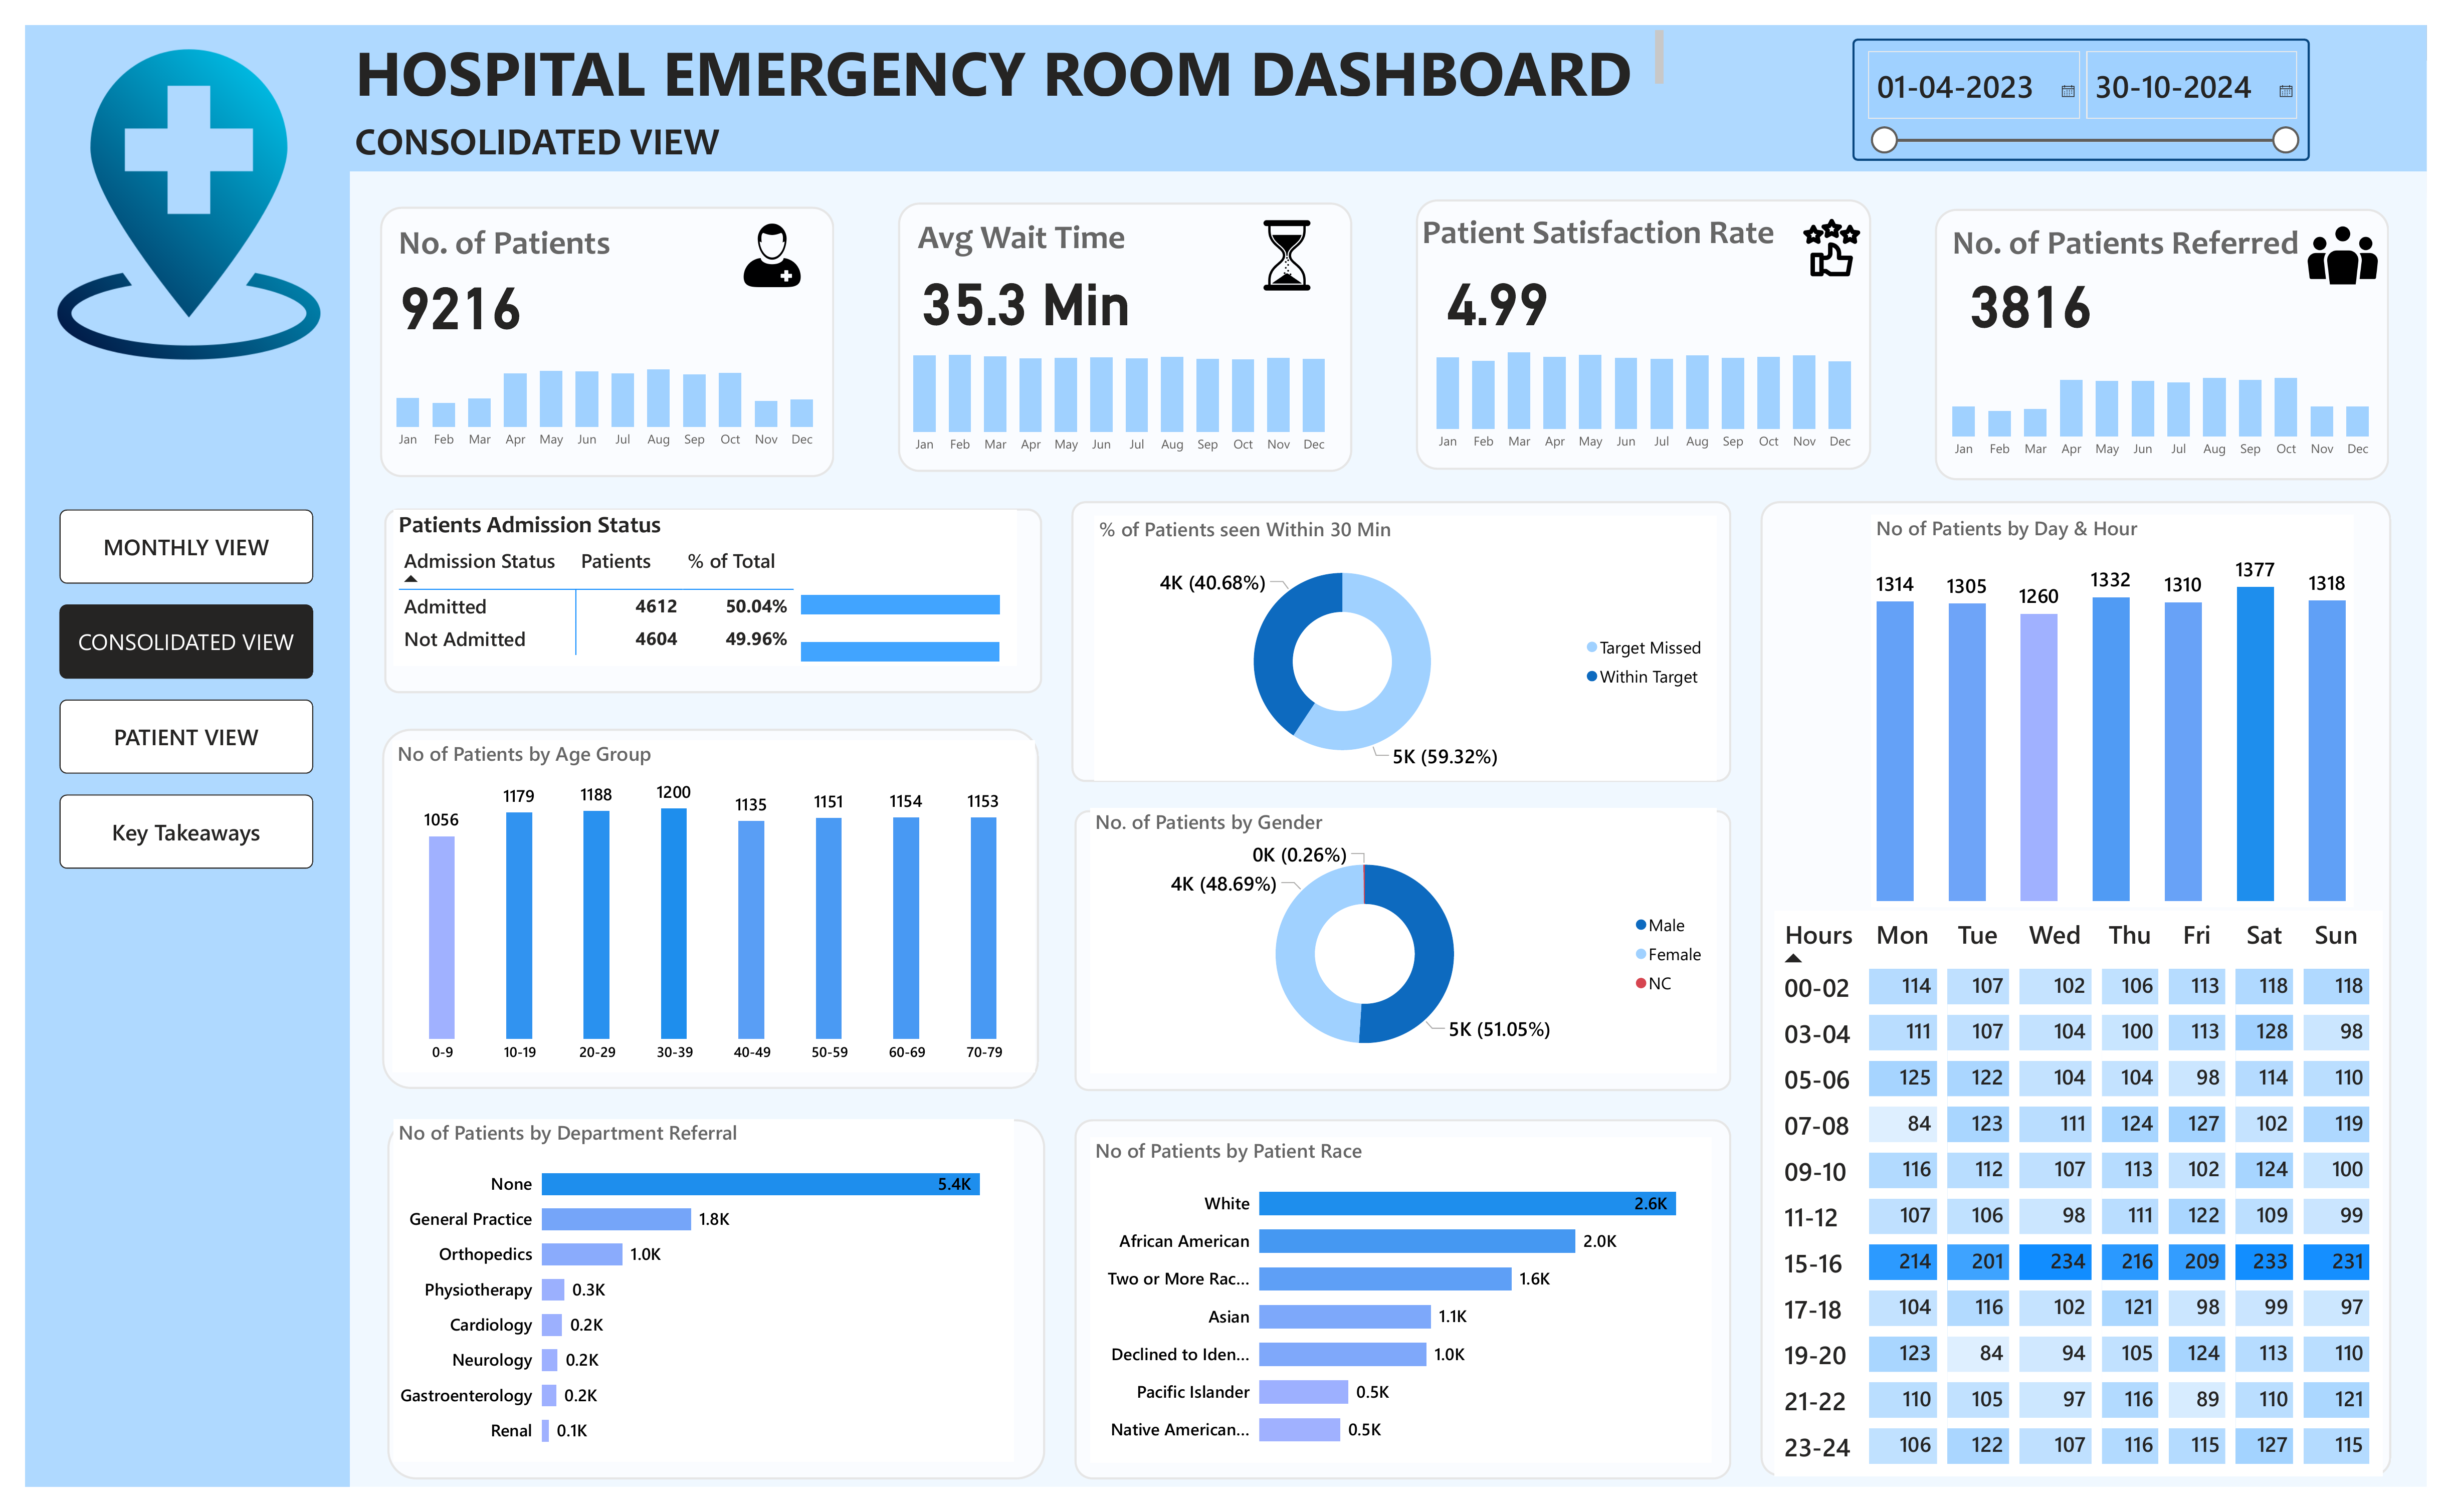

What the dashboard file says about the page in this screenshot:
{"tool":"powerbi","page":{"name":"CONSOLIDATED VIEW","canvas":[2300,1400],"ordinal":1},"visuals":[{"type":"shape","box":[339.6,173.7,435.5,259.2],"z":0},{"type":"shape","box":[311.1,0,1988.4,140],"z":1000},{"type":"textbox","box":[311.1,0,1262.5,72.6],"z":2000},{"type":"shape","box":[0,0,311.1,1399.9],"z":3000},{"type":"textbox","box":[352.6,184.1,290.4,67.4],"z":4000},{"type":"card","fields":{"Values":["Hospital ER_Data.No of Patients"]},"box":[337,230.7,160.7,67.4],"z":5000},{"type":"slicer","fields":{"Values":["Date.Date"]},"box":[1749.9,13,438.1,116.7],"z":6000},{"type":"textbox","box":[311.5,83.2,404.2,66.6],"z":7000},{"type":"clusteredColumnChart","fields":{"Category":["Date.Month"],"Y":["All Measures.No of Patients"]},"box":[336.6,290.5,437.1,125],"z":8000},{"type":"shape","box":[836.4,170,434.4,257.9],"z":9000},{"type":"textbox","box":[850.3,178.9,290.4,67.4],"z":10000},{"type":"card","fields":{"Values":["All Measures.Avg_Wait_time"]},"box":[850.3,225.5,217.8,70],"z":11000},{"type":"columnChart","fields":{"Category":["Date.Month"],"Y":["Avg(Hospital ER_Data.Patient Waittime)"]},"box":[832.4,294.8,431.7,125],"z":12000},{"type":"shape","box":[1332,166.8,435.5,259.2],"z":13000},{"type":"textbox","box":[1332.5,173.7,360.4,51.8],"z":14000},{"type":"card","fields":{"Values":["All Measures.Satisfaction rate"]},"box":[1350.7,225.5,119.3,70],"z":15000},{"type":"columnChart","fields":{"Category":["Date.Month"],"Y":["All Measures.Satisfaction rate"]},"box":[1332.5,290.4,435.5,127],"z":16000},{"type":"shape","box":[1828.7,176.3,435.5,259.2],"z":17000},{"type":"textbox","box":[1840.6,184.1,347.4,67.4],"z":18000},{"type":"card","fields":{"Values":["All Measures.No. of Patients Referred"]},"box":[1843.2,228.1,155.5,70],"z":19000},{"type":"columnChart","fields":{"Category":["Date.Month"],"Y":["All Measures.No. of Patients Referred"]},"box":[1827.1,298.6,437.1,125],"z":20000},{"type":"shape","box":[343.7,463.2,630,177],"z":21000},{"type":"pivotTable","title":"Patients Admission Status","fields":{"Rows":["Hospital ER_Data.Admission Status"],"Values":["All Measures.No of Patients","Divide(All Measures.No of Patients, ScopedEval(All Measures.No of Patients, []))"]},"box":[352.9,464.2,597.3,149.3],"z":22000},{"type":"barChart","fields":{"Y":["All Measures.No of Patients"],"Category":["Hospital ER_Data.Admission Status"]},"box":[738.4,510.4,257.9,130.3],"z":23000},{"type":"shape","box":[341.5,674.4,629.8,344.8],"z":24000},{"type":"clusteredColumnChart","fields":{"Y":["All Measures.No of Patients"],"Category":["Hospital ER_Data.Age Group"]},"box":[352.4,685.2,615,317.6],"z":25000},{"type":"shape","box":[347.2,1047.8,629.8,344.8],"z":26000},{"type":"clusteredBarChart","fields":{"Category":["Hospital ER_Data.Department Referral"],"Y":["All Measures.No of Patients"]},"box":[352.9,1047.9,594.6,328.5],"z":27000},{"type":"shape","box":[1001.8,456.1,632.6,268.8],"z":28000},{"type":"shape","box":[1661.8,456.3,604,933.3],"z":29000},{"type":"donutChart","title":"% of Patients seen Within 30 Min","fields":{"Y":["All Measures.No of Patients"],"Category":["Hospital ER_Data.Waiting Status"]},"box":[1024,470,596,254],"z":30000},{"type":"shape","box":[1004.5,752,629.8,268.8],"z":31000},{"type":"donutChart","title":"No. of Patients by Gender","fields":{"Category":["Hospital ER_Data.Patient Gender"],"Y":["All Measures.No of Patients"]},"box":[1020,750,600,254],"z":32000},{"type":"shape","box":[1004.5,1047.9,629.8,344.8],"z":33000},{"type":"clusteredBarChart","fields":{"Y":["All Measures.No of Patients"],"Category":["Hospital ER_Data.Patient Race"]},"box":[1020,1065,595,311.7],"z":34000},{"type":"pivotTable","fields":{"Rows":["Hospital ER_Data.Waittime Interval"],"Columns":["Hospital ER_Data.Day"],"Values":["All Measures.No of Patients"]},"box":[1674.7,847.7,583.3,541.8],"z":35000},{"type":"columnChart","title":"No of Patients by Day & Hour","fields":{"Category":["Hospital ER_Data.Day"],"Y":["All Measures.No of Patients"]},"box":[1768.1,469.2,461.5,375.9],"z":36000},{"type":"image","box":[676.6,186.7,77.8,67.4],"z":37000},{"type":"image","box":[1169.2,186.7,77.8,67.4],"z":38000},{"type":"image","box":[1690.3,178.9,77.8,67.4],"z":39000},{"type":"image","box":[2180.3,186.7,77.8,67.4],"z":40000},{"type":"image","box":[7.8,23.3,298.1,298.1],"z":41000},{"type":"pageNavigator","box":[33.3,463.7,242.5,344.8],"z":42000}]}

Visuals, with their boxes on the page's 2300x1400 design canvas (x1, y1, x2, y2). These are canvas units, not pixel positions in the 2452x1512 screenshot, which may show the page scaled, cropped or inside an application window:
shape: detection(340, 174, 775, 433)
shape: detection(311, 0, 2300, 140)
textbox: detection(311, 0, 1574, 73)
shape: detection(0, 0, 311, 1400)
textbox: detection(353, 184, 643, 252)
card - Hospital ER_Data.No of Patients: detection(337, 231, 498, 298)
slicer - Date.Date: detection(1750, 13, 2188, 130)
textbox: detection(312, 83, 716, 150)
clusteredColumnChart - Date.Month x All Measures.No of Patients: detection(337, 290, 774, 416)
shape: detection(836, 170, 1271, 428)
textbox: detection(850, 179, 1141, 246)
card - All Measures.Avg_Wait_time: detection(850, 226, 1068, 296)
columnChart - Date.Month x Avg(Hospital ER_Data.Patient Waittime): detection(832, 295, 1264, 420)
shape: detection(1332, 167, 1768, 426)
textbox: detection(1332, 174, 1693, 226)
card - All Measures.Satisfaction rate: detection(1351, 226, 1470, 296)
columnChart - Date.Month x All Measures.Satisfaction rate: detection(1332, 290, 1768, 417)
shape: detection(1829, 176, 2264, 436)
textbox: detection(1841, 184, 2188, 252)
card - All Measures.No. of Patients Referred: detection(1843, 228, 1999, 298)
columnChart - Date.Month x All Measures.No. of Patients Referred: detection(1827, 299, 2264, 424)
shape: detection(344, 463, 974, 640)
"Patients Admission Status" pivotTable: detection(353, 464, 950, 614)
barChart - All Measures.No of Patients x Hospital ER_Data.Admission Status: detection(738, 510, 996, 641)
shape: detection(342, 674, 971, 1019)
clusteredColumnChart - All Measures.No of Patients x Hospital ER_Data.Age Group: detection(352, 685, 967, 1003)
shape: detection(347, 1048, 977, 1393)
clusteredBarChart - Hospital ER_Data.Department Referral x All Measures.No of Patients: detection(353, 1048, 948, 1376)
shape: detection(1002, 456, 1634, 725)
shape: detection(1662, 456, 2266, 1390)
"% of Patients seen Within 30 Min" donutChart: detection(1024, 470, 1620, 724)
shape: detection(1004, 752, 1634, 1021)
"No. of Patients by Gender" donutChart: detection(1020, 750, 1620, 1004)
shape: detection(1004, 1048, 1634, 1393)
clusteredBarChart - All Measures.No of Patients x Hospital ER_Data.Patient Race: detection(1020, 1065, 1615, 1377)
pivotTable - Hospital ER_Data.Waittime Interval x Hospital ER_Data.Day: detection(1675, 848, 2258, 1390)
"No of Patients by Day & Hour" columnChart: detection(1768, 469, 2230, 845)
image: detection(677, 187, 754, 254)
image: detection(1169, 187, 1247, 254)
image: detection(1690, 179, 1768, 246)
image: detection(2180, 187, 2258, 254)
image: detection(8, 23, 306, 321)
pageNavigator: detection(33, 464, 276, 808)
